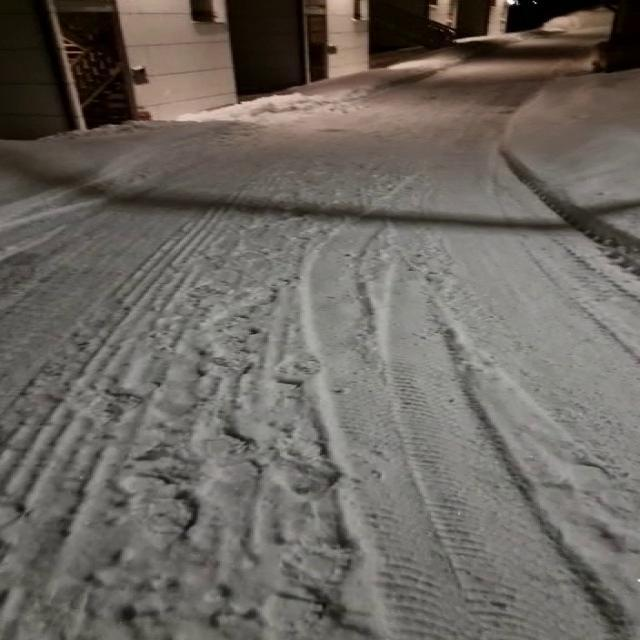path: (2, 30, 640, 640)
